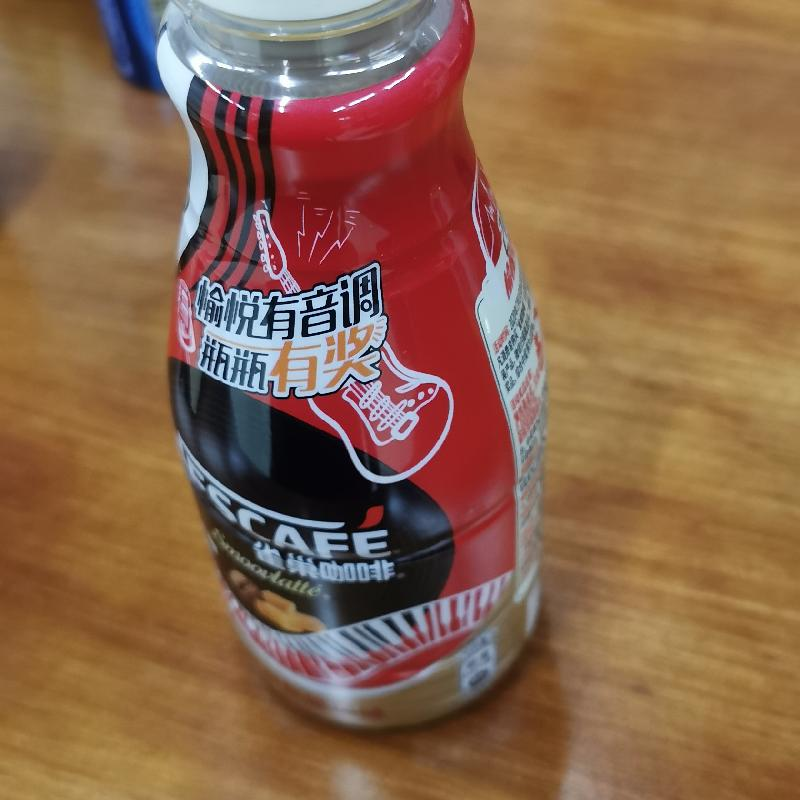bottles: (149, 2, 558, 745)
